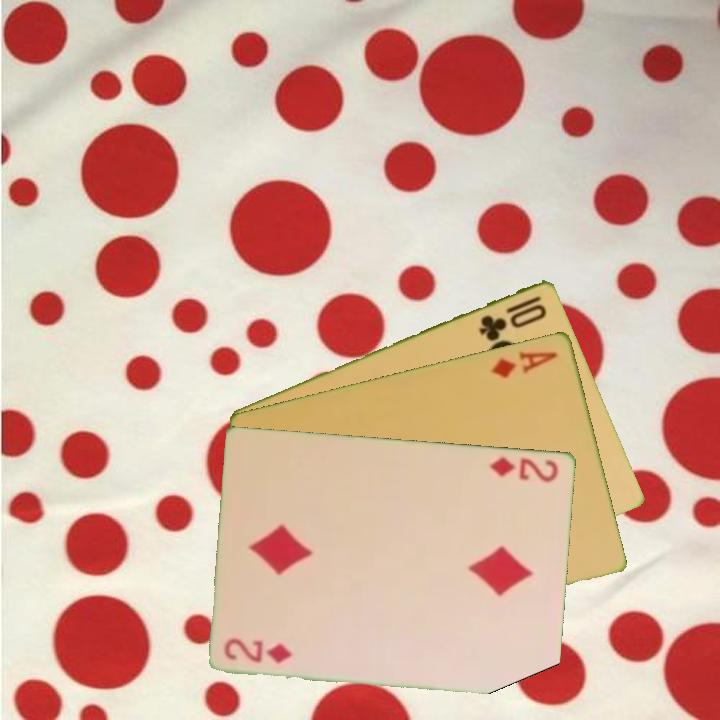10c: (476, 291, 550, 343)
2d: (487, 453, 562, 485), (221, 635, 296, 666)
Ad: (487, 347, 561, 381)
